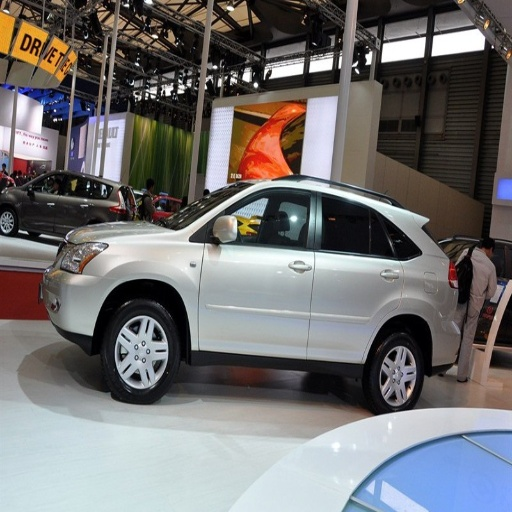_background_: (435, 331, 459, 365)
back_glass: (308, 190, 402, 363)
back_right_light: (50, 272, 109, 335)
front_glass: (199, 190, 315, 355)
front_left_door: (61, 243, 106, 272)
trunk: (102, 300, 179, 403), (367, 332, 425, 410)
